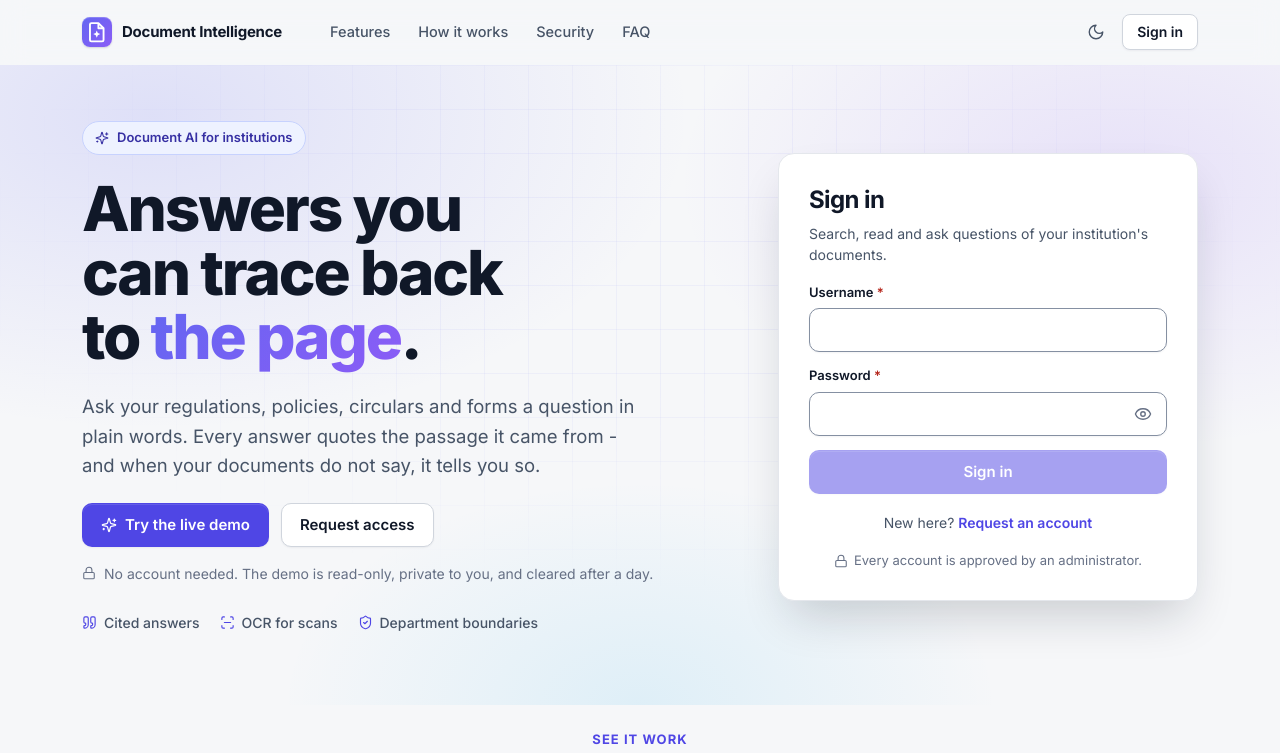
it: the landing page › says why the demo could not start
The width and height of the screenshot is (1280, 753).
Click the button "Try the live demo": (175, 525) [82,503,269,547]
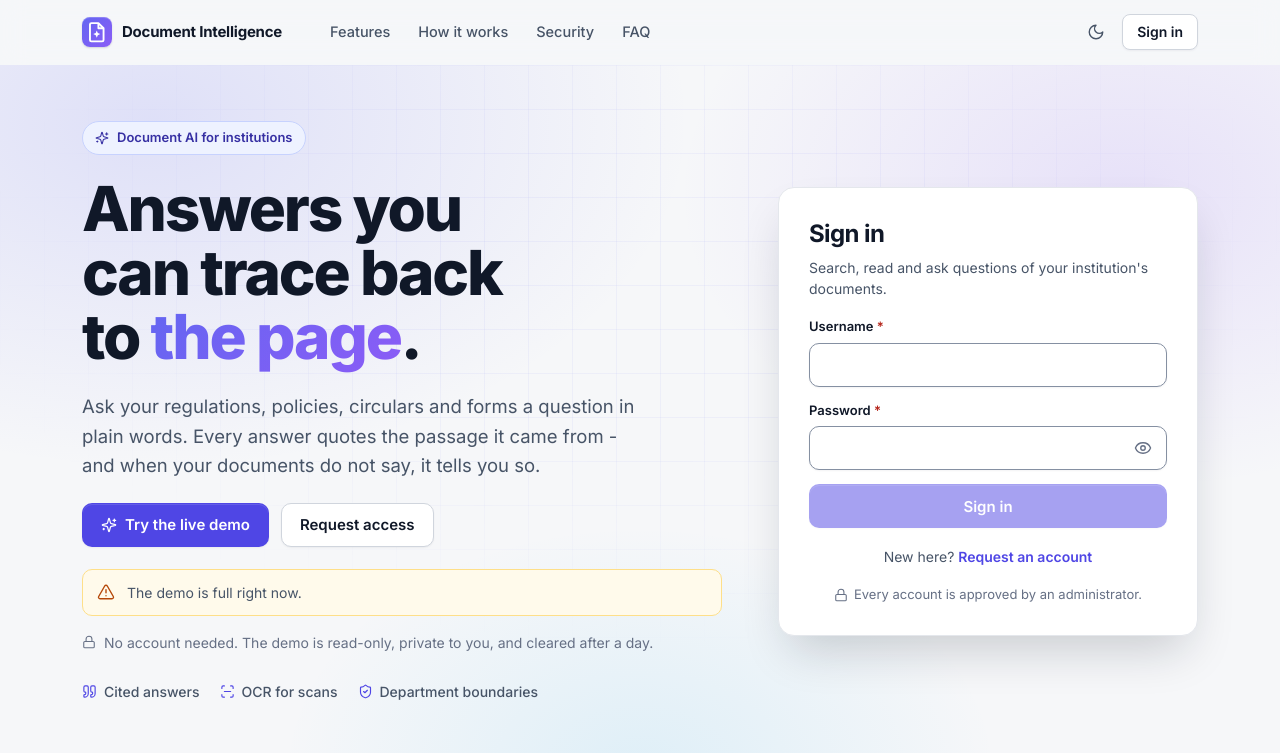
expect the heading "Sign in" is shown: met, box [809,219,884,248]
expect the message reads "The demo is full right now.": met, box [127,584,302,601]
